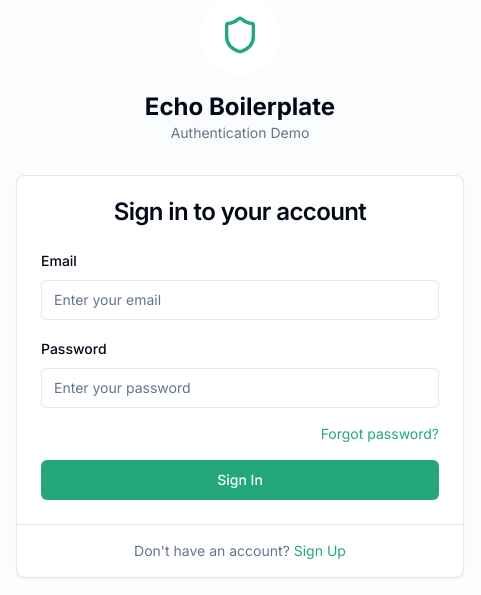
it: SignIn Component › shows 2FA form when 2FA is required
In the field labelled "Email": (240, 300) [41, 280, 439, 320], type "test@example.com"
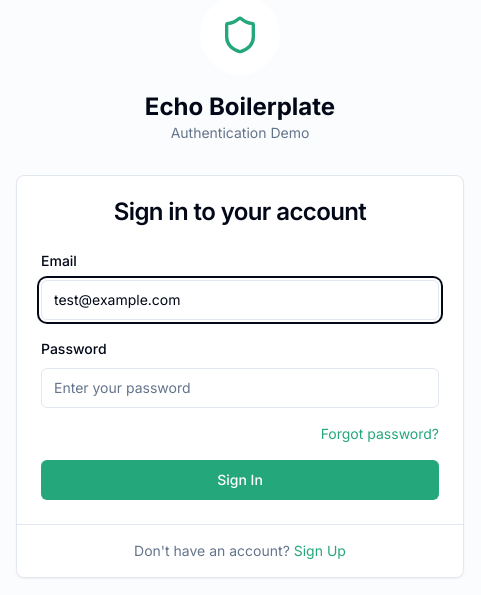
In the password field labelled "Password": (240, 388) [41, 368, 439, 408], type "password123"
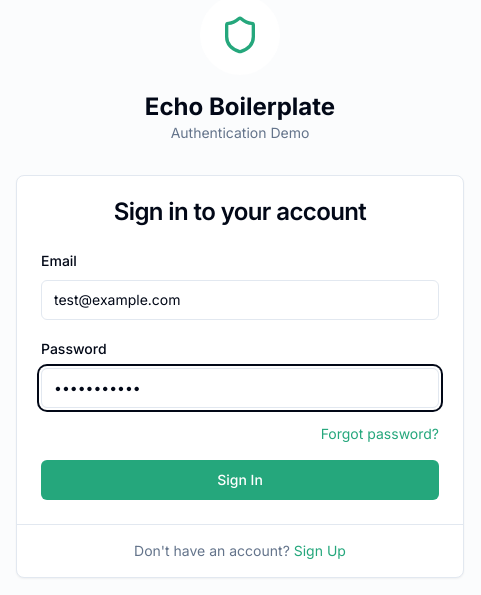
Click the button "Sign In": (240, 480) [41, 460, 439, 500]
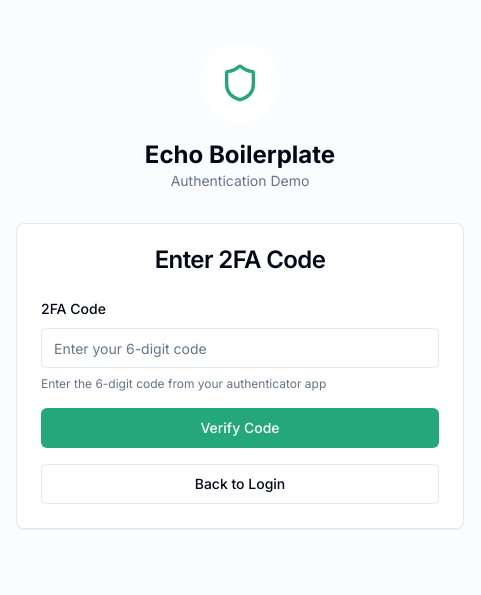
Now the heading "Enter 2FA Code" is shown, box [155, 245, 325, 274]
Now the field labelled "2FA Code" is shown, box [41, 328, 439, 368]
Now the button "Verify Code" is shown, box [41, 408, 439, 448]
